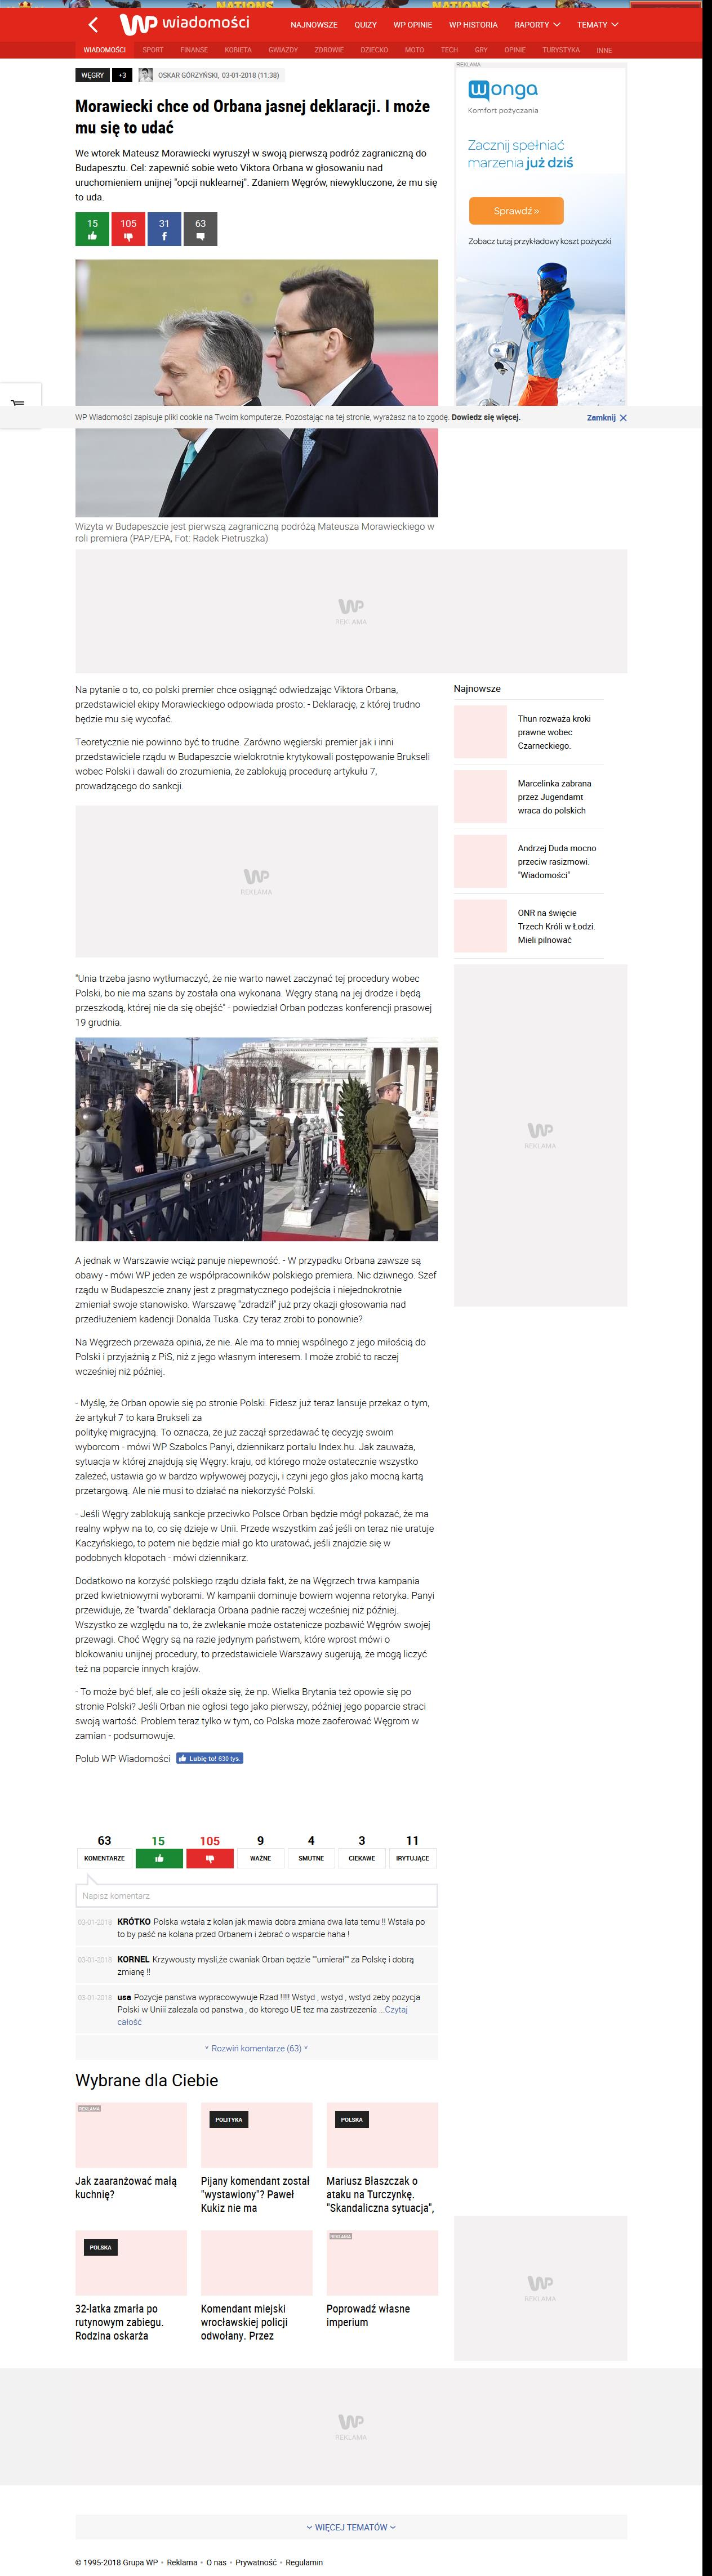title: (74, 99, 432, 136)
